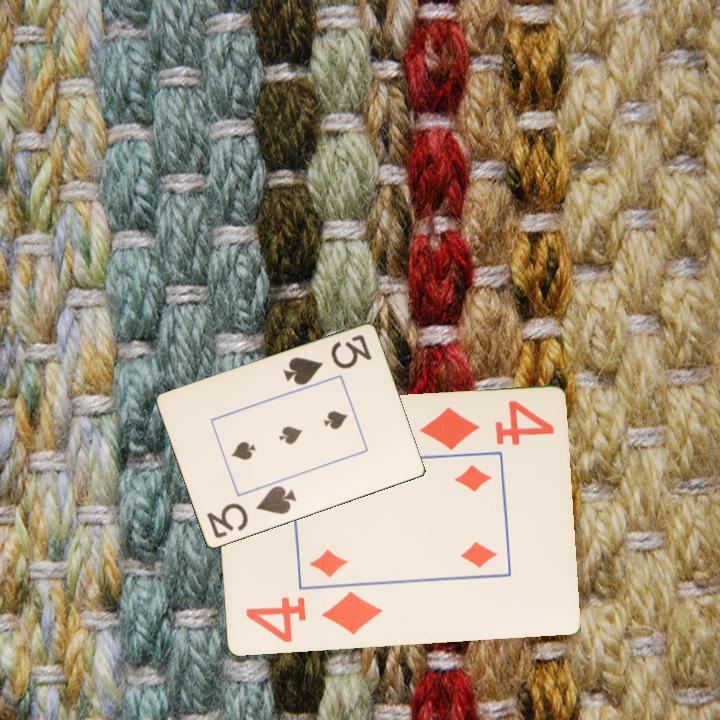3s: (203, 482, 299, 541), (279, 331, 374, 389)
4d: (241, 588, 385, 646), (415, 397, 557, 454)
